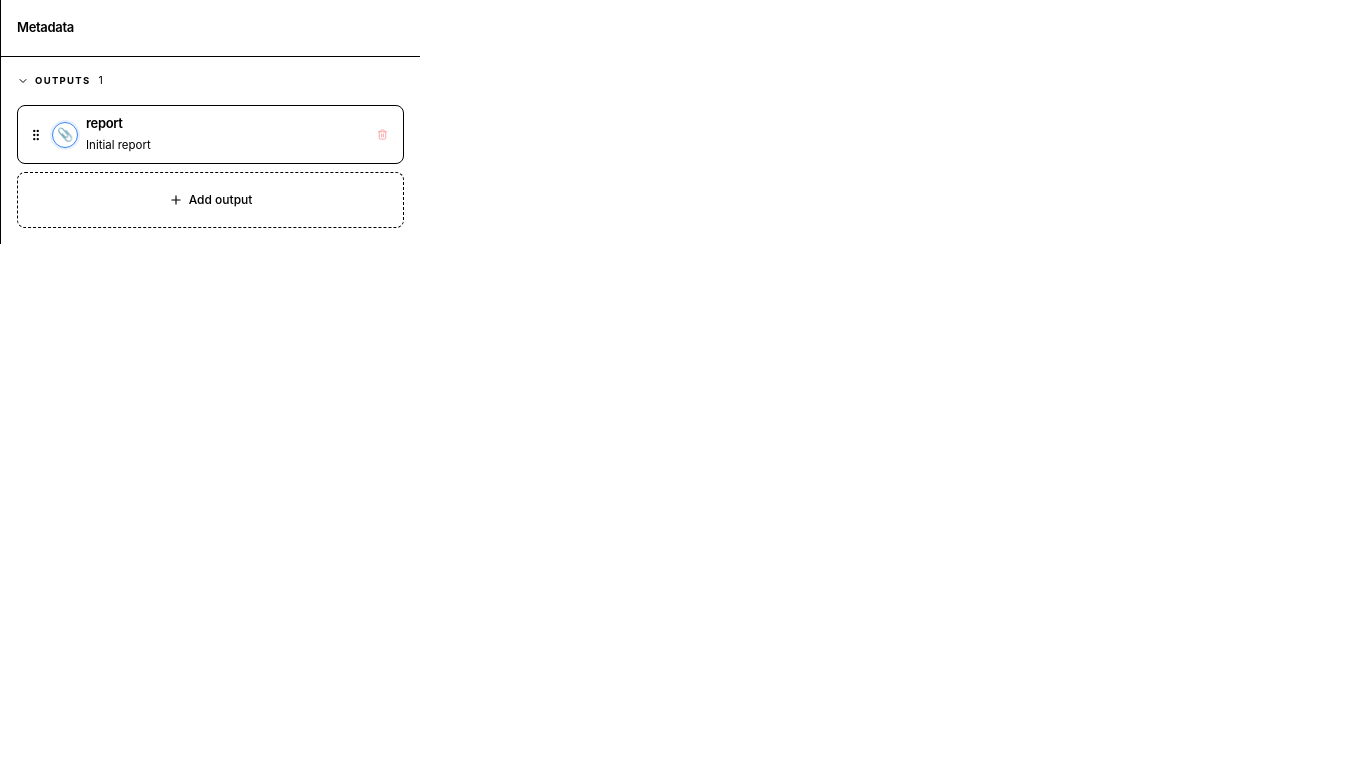
Test: PlaybookOutputsDock › shows the cascade-impact line in the confirm modal when task_outputs reference the row
Click the button with test id "playbook-output-delete-po-1": [382, 134] box [371, 124, 393, 146]
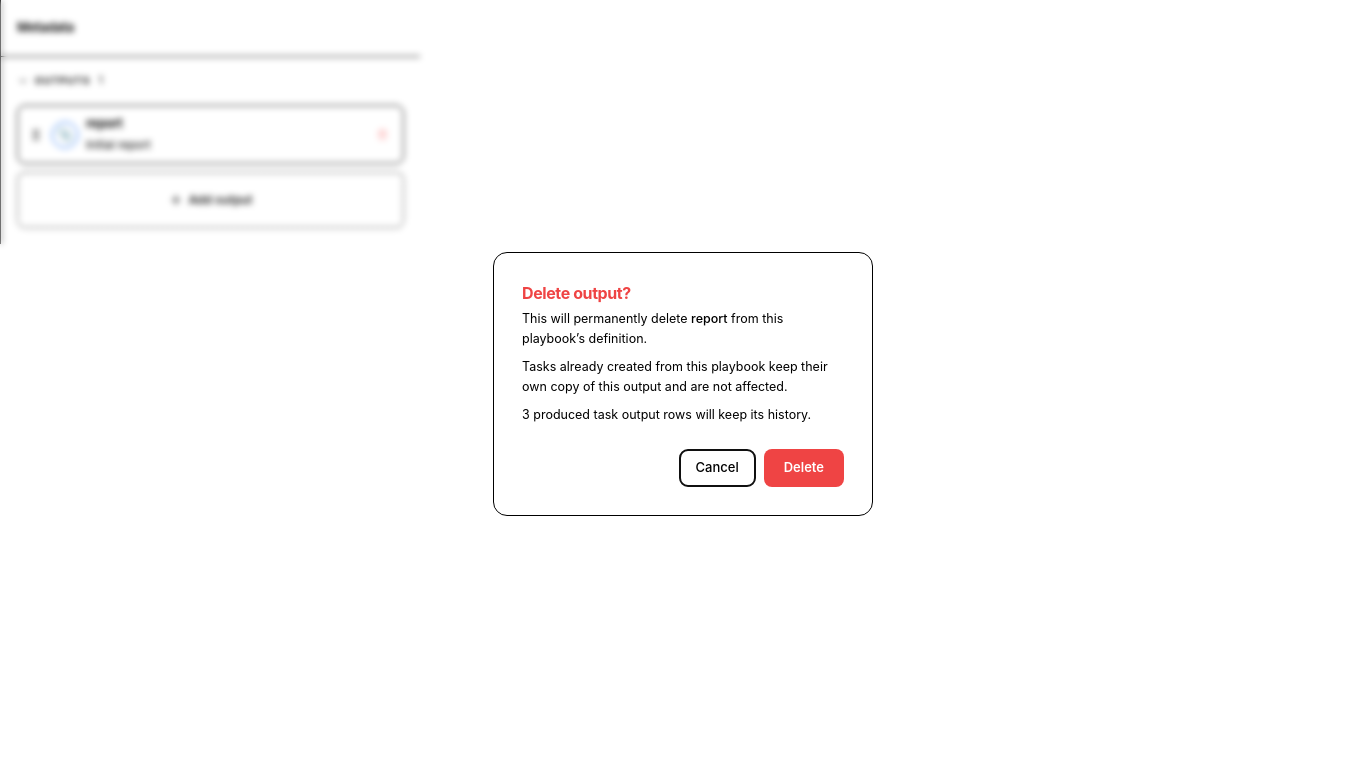
Check: the text with test id "playbook-outputs-delete-impact" shows "3 produced task output rows", box [522, 405, 844, 425]
